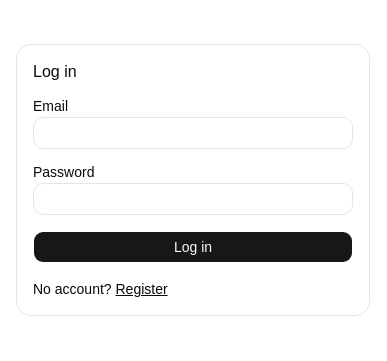
Test: auth flow › shows a friendly message on 429
Step 1. Type "a@b.com" into the field labelled "Email" → (193, 133), box [33, 117, 353, 149]
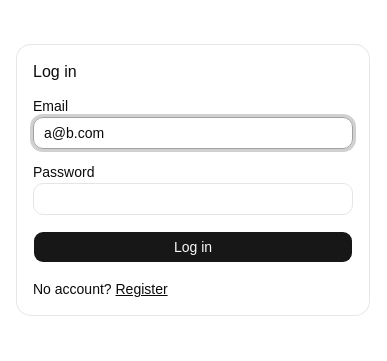
Step 2. Type "password1" into the password field labelled "Password" → (193, 199), box [33, 183, 353, 215]
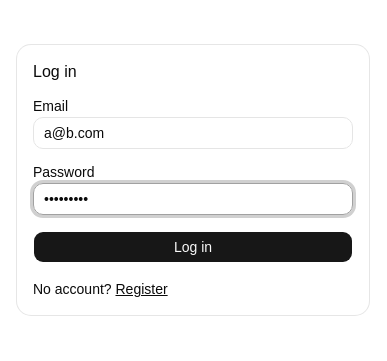
Step 3. Click the button "Log in" → (193, 247), box [33, 231, 353, 263]
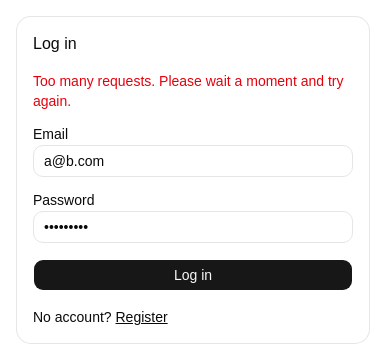
Result: the message shows "Too many requests" at [33, 73, 344, 109]
